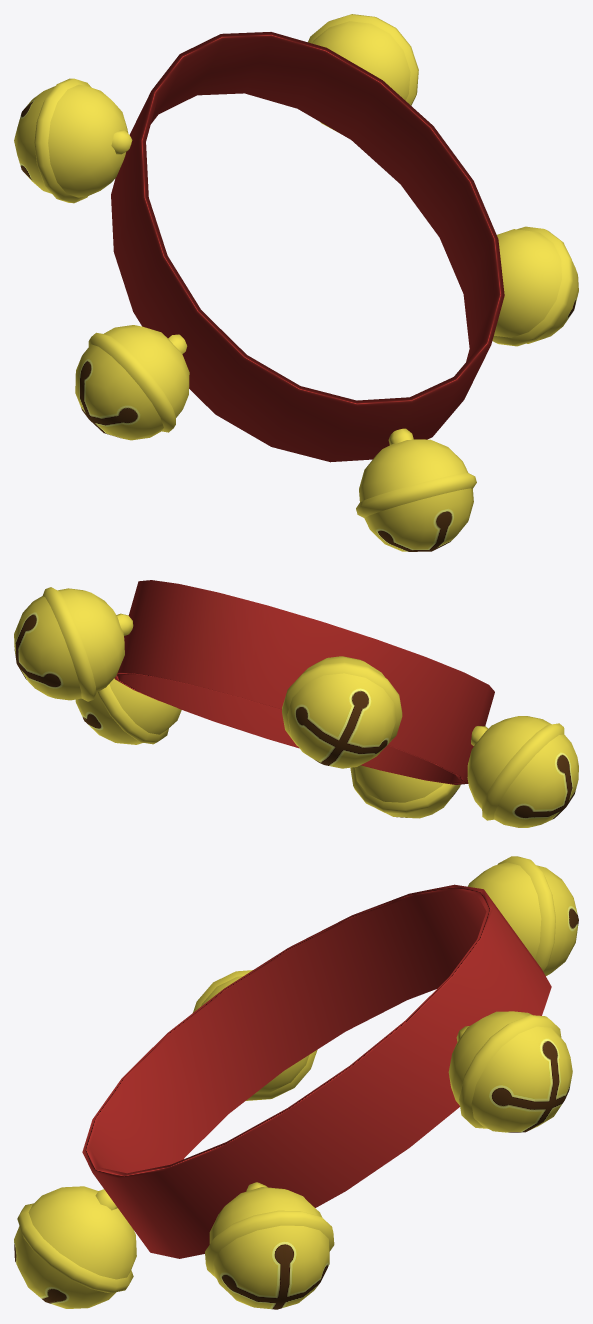
Rendered from bell_pm0234_00_odoshishi(Clone).fbx.
3 views of the same model, one above another, from view 1: azimuth 30°, elevation 25°; view 2: azimuth 150°, elevation 25°; view 3: azimuth 270°, elevation 25° (orthographic). The views are drawn at different scales.
Visible parts, largest first — view 1: bell_pm0234_00_odoshishi(Clone); view 2: bell_pm0234_00_odoshishi(Clone); view 3: bell_pm0234_00_odoshishi(Clone).
Boxes of the visible parts, x1=… form: bell_pm0234_00_odoshishi(Clone): x1=14, y1=14, x2=578, y2=551; bell_pm0234_00_odoshishi(Clone): x1=14, y1=580, x2=578, y2=827; bell_pm0234_00_odoshishi(Clone): x1=14, y1=856, x2=578, y2=1309.
Size of the model in its own units: 0.353 by 0.2522 by 0.3258.
